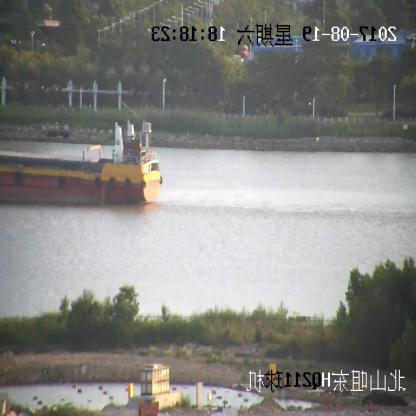Bulk Carrier: (1, 122, 160, 208)
